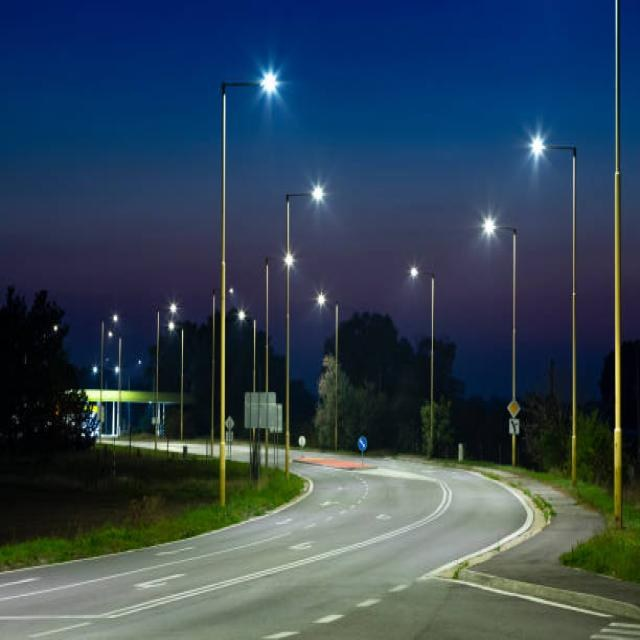acesa: (242, 56, 294, 112), (520, 122, 560, 168), (477, 208, 502, 240), (308, 179, 330, 204), (280, 250, 296, 275), (314, 288, 329, 310), (167, 301, 181, 322), (234, 306, 246, 324), (408, 266, 419, 280)
